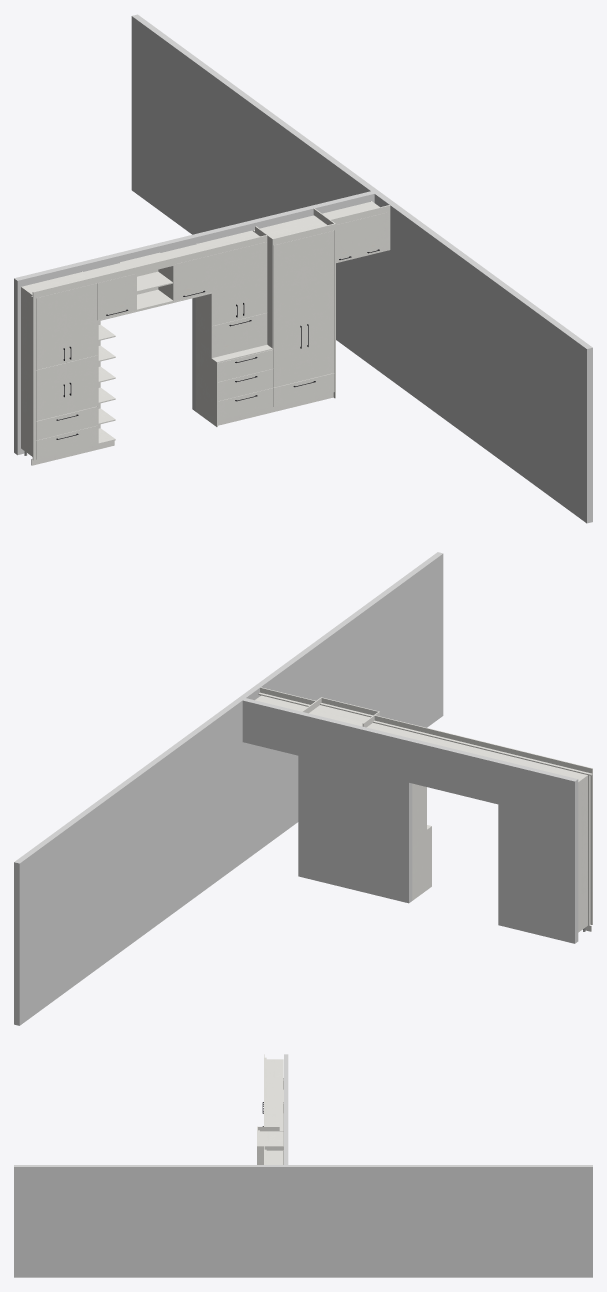
Rendered from szekreny.glb.
3 views of the same model, one above another, from view 1: azimuth 30°, elevation 25°; view 2: azimuth 150°, elevation 25°; view 3: azimuth 270°, elevation 25° (orthographic). The views are drawn at different scales.
Visible parts, largest first — view 1: 3DGeom-381, 3DGeom-1, 3DGeom-58, 3DGeom-79, 3DGeom-306, 3DGeom-303, 3DGeom-160, 3DGeom-157, 3DGeom-128, 3DGeom-332, 3DGeom-277, 3DGeom-279 (+16 smaller); view 2: 3DGeom-381, 3DGeom-1, 3DGeom-353, 3DGeom-332, 3DGeom-355, 3DGeom-329, 3DGeom-298; view 3: 3DGeom-381, 3DGeom-1, 3DGeom-64, 3DGeom-293.
Part boxes in pixels (x1,y1,x2,y2): 3DGeom-381: (131, 14, 592, 523); 3DGeom-1: (14, 191, 374, 455); 3DGeom-58: (304, 230, 334, 380); 3DGeom-79: (274, 238, 304, 387); 3DGeom-306: (67, 283, 97, 362); 3DGeom-303: (36, 291, 66, 369); 3DGeom-160: (240, 242, 267, 319); 3DGeom-157: (212, 248, 239, 325); 3DGeom-128: (212, 313, 267, 357); 3DGeom-332: (32, 235, 267, 298); 3DGeom-277: (36, 363, 66, 420); 3DGeom-279: (67, 355, 97, 413); 3DGeom-381: (14, 552, 443, 1025); 3DGeom-1: (242, 698, 578, 943); 3DGeom-353: (412, 826, 431, 900); 3DGeom-332: (374, 716, 592, 774); 3DGeom-355: (412, 783, 426, 839); 3DGeom-329: (373, 720, 592, 775); 3DGeom-298: (578, 775, 587, 848); 3DGeom-381: (14, 1165, 592, 1277); 3DGeom-1: (284, 1054, 288, 1164); 3DGeom-64: (260, 1131, 283, 1145); 3DGeom-293: (266, 1059, 283, 1077).
Size of the model in its own units: 5.95 by 2.73 by 12.92.
Materials: 12 (3 with a texture image).
